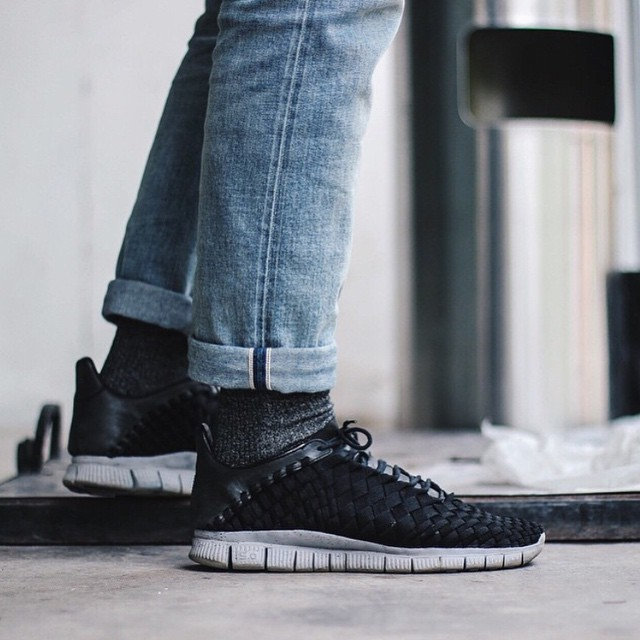sneaker: (163, 368, 575, 596), (51, 309, 232, 505)
